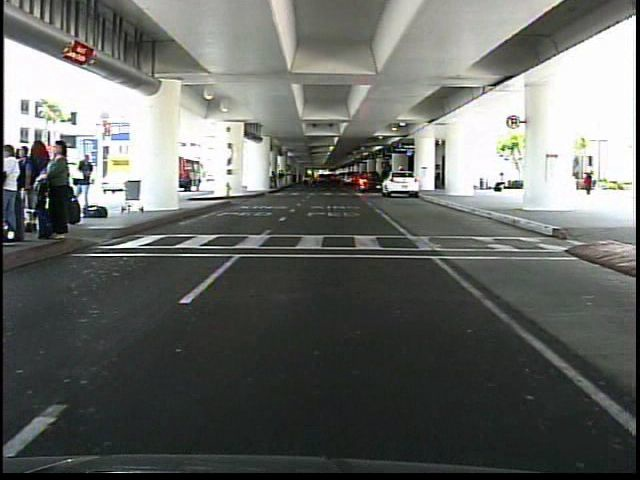person: (74, 150, 97, 208), (577, 163, 600, 203), (491, 167, 508, 199)
